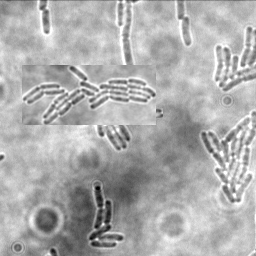Dividing: (123, 1, 142, 64), (131, 108, 163, 118), (41, 8, 52, 35)
Microcolony: (22, 65, 156, 125), (200, 109, 255, 205), (212, 25, 255, 94), (89, 184, 126, 248), (96, 125, 132, 150), (182, 16, 193, 48)
